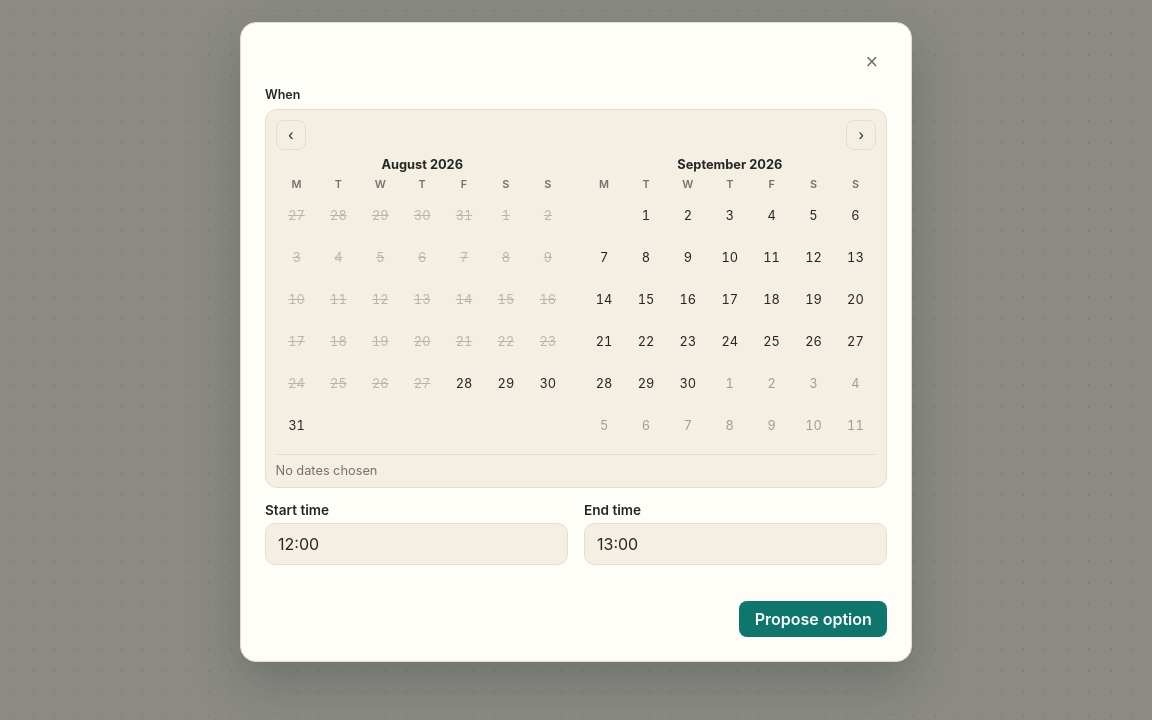
Test: what the option form says is required › clears the complaint and proposes once the field is filled
(page scrolled)
Click the button "Propose option": click(813, 618) x1=740 y1=600 x2=887 y2=636
(page scrolled)
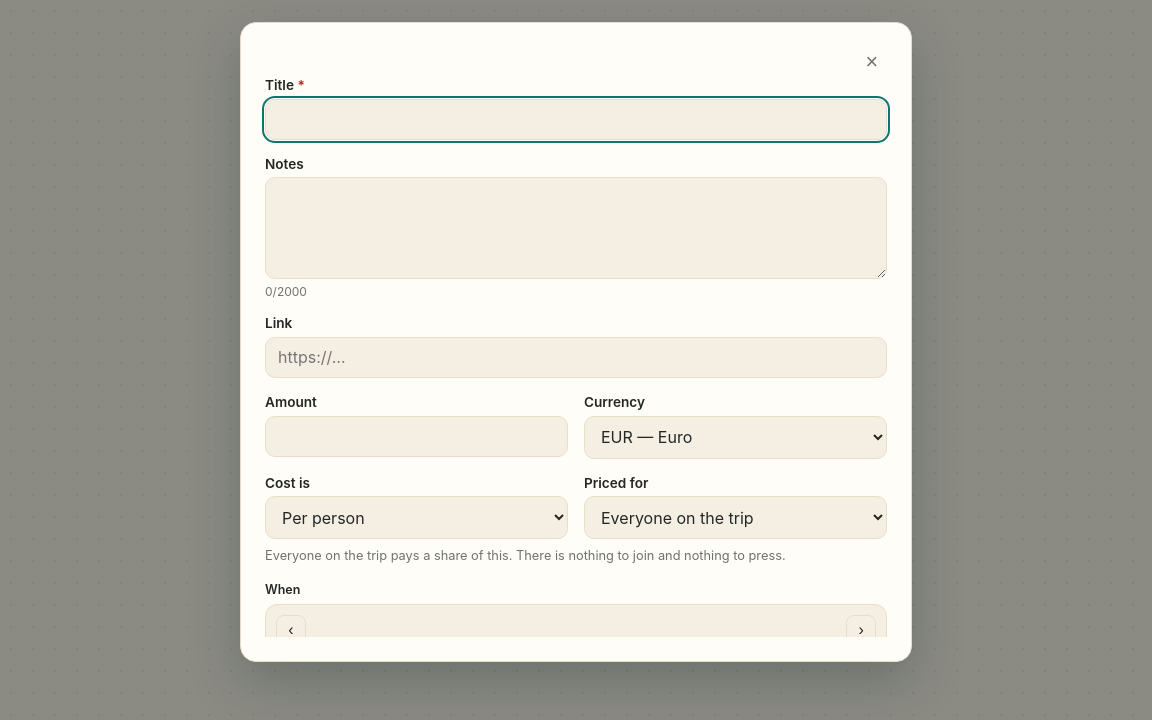
In the field labelled "Title *": (576, 119) x1=265 y1=99 x2=887 y2=140, type "Tram 28"
(page scrolled)
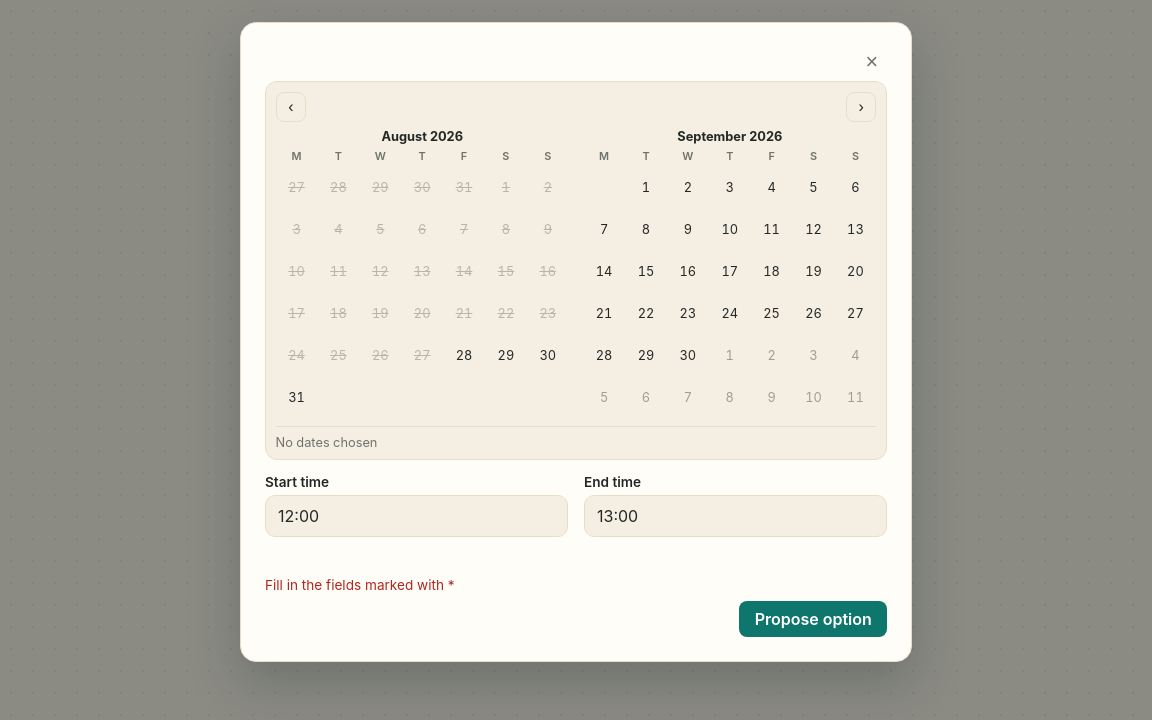
Click the button "Propose option": click(813, 618) x1=740 y1=600 x2=887 y2=636
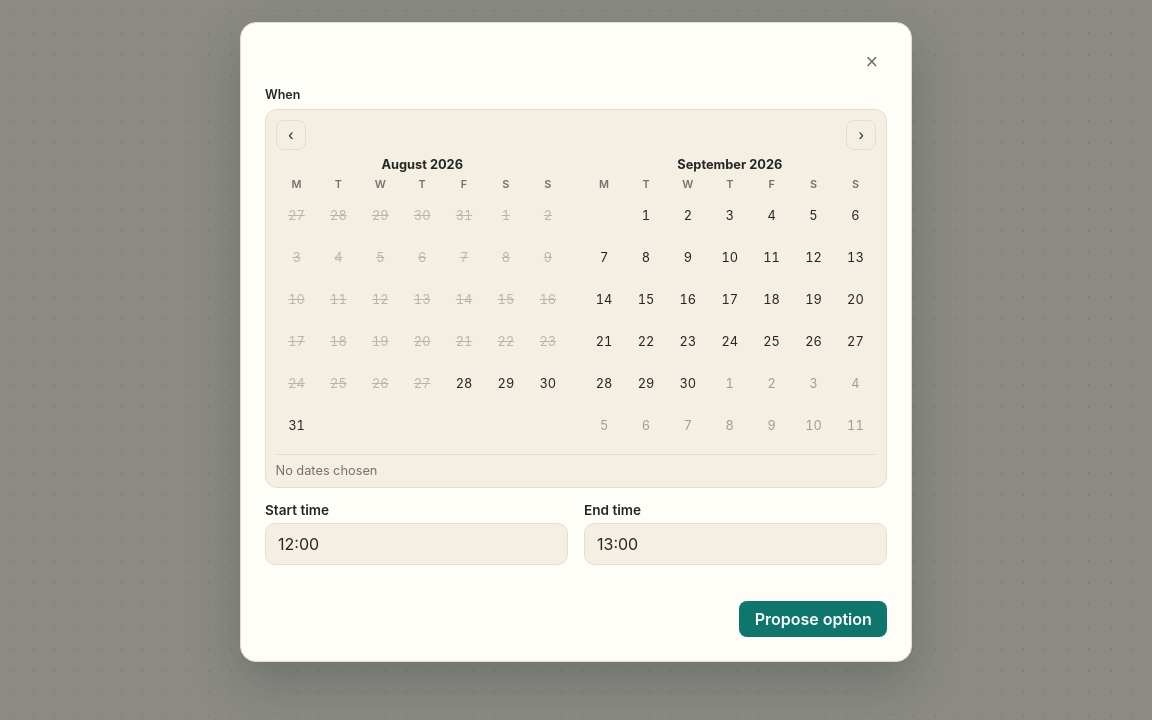
Check: the message "Fill in the fields marked with *" is gone
